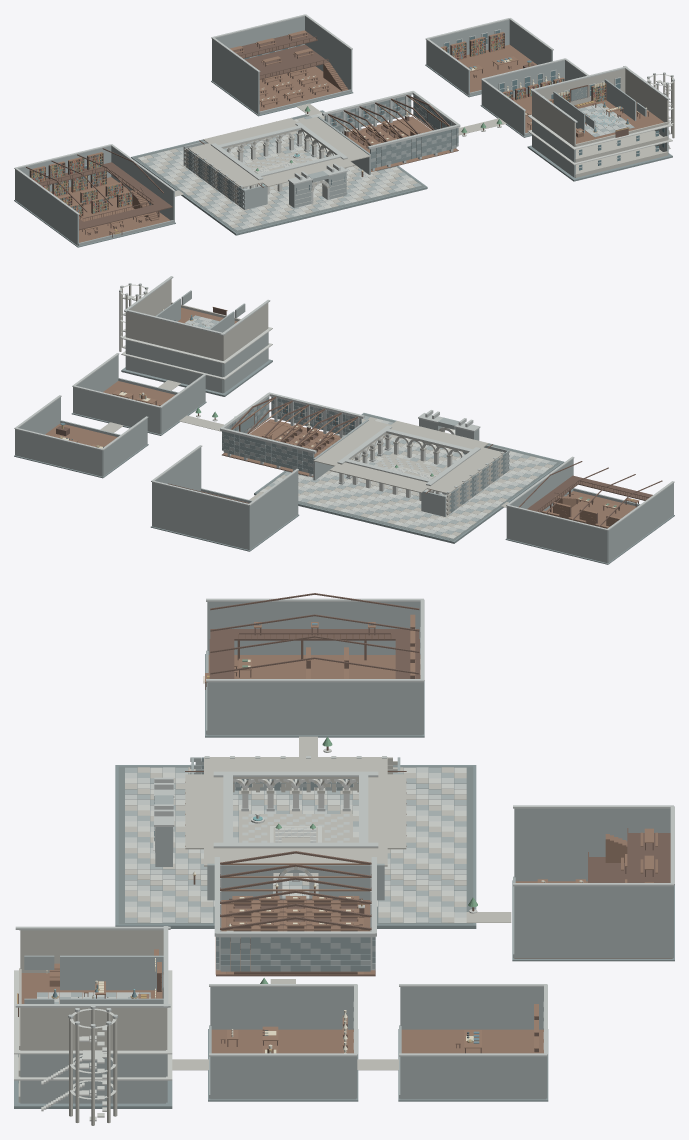
The model's file is ranoa-uniwersytet.glb.
The picture shows the model from 3 angles, top to bottom: view 1: azimuth 30°, elevation 25°; view 2: azimuth 150°, elevation 25°; view 3: azimuth 270°, elevation 25°; orthographic projection. The views are drawn at different scales.
Parts seen in each view (by area): view 1: Ranoa | kruzganek, aula, biblioteka, stolowka, pracownie, Ranoa | Nanahoshi - polaczone trzy pokoje na trzecim pietrze; view 2: Ranoa | kruzganek, aula, biblioteka, stolowka, pracownie, Ranoa | Nanahoshi - polaczone trzy pokoje na trzecim pietrze; view 3: Ranoa | kruzganek, aula, biblioteka, stolowka, pracownie, Ranoa | Nanahoshi - polaczone trzy pokoje na trzecim pietrze.
Part boxes in pixels (bbox=[...]): Ranoa | kruzganek, aula, biblioteka, stolowka, pracownie: bbox=[14, 14, 674, 247]; Ranoa | Nanahoshi - polaczone trzy pokoje na trzecim pietrze: bbox=[532, 69, 668, 146]; Ranoa | kruzganek, aula, biblioteka, stolowka, pracownie: bbox=[14, 276, 674, 564]; Ranoa | Nanahoshi - polaczone trzy pokoje na trzecim pietrze: bbox=[125, 279, 268, 360]; Ranoa | kruzganek, aula, biblioteka, stolowka, pracownie: bbox=[14, 598, 674, 1125]; Ranoa | Nanahoshi - polaczone trzy pokoje na trzecim pietrze: bbox=[19, 930, 167, 1050].
Size of the model in its own units: 176 by 18 by 104.
